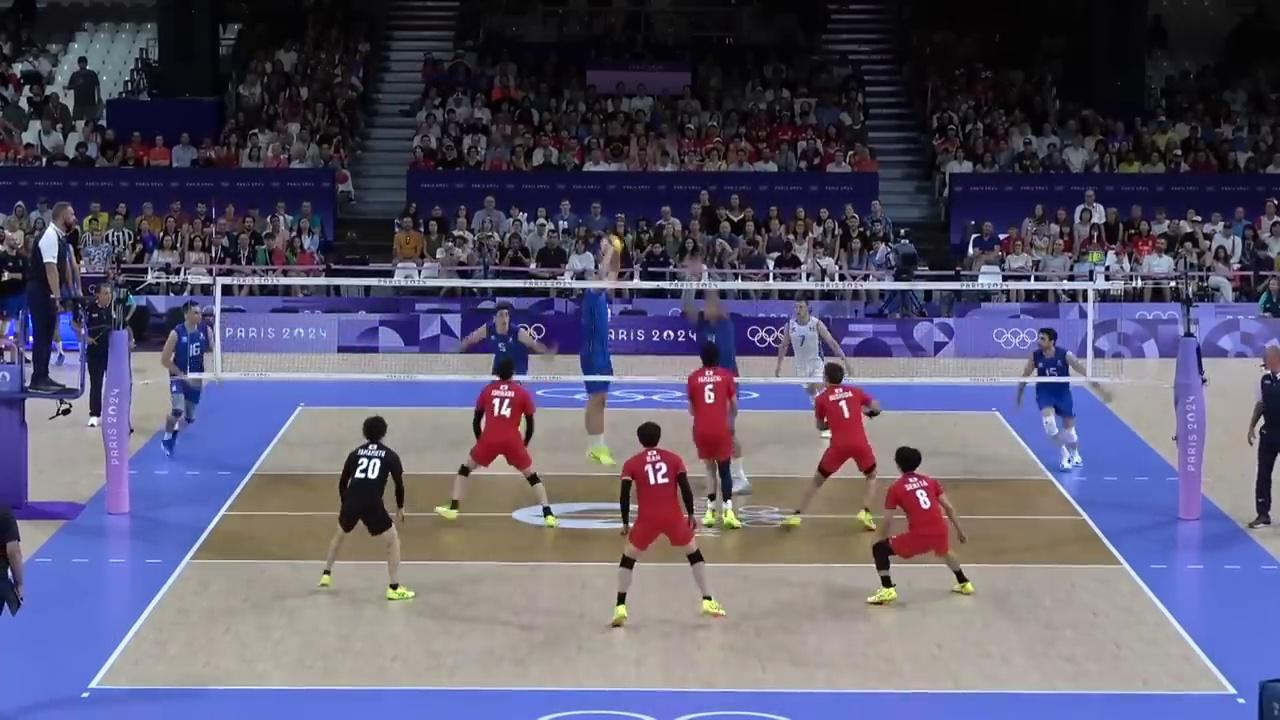ball: (601, 235, 619, 252)
